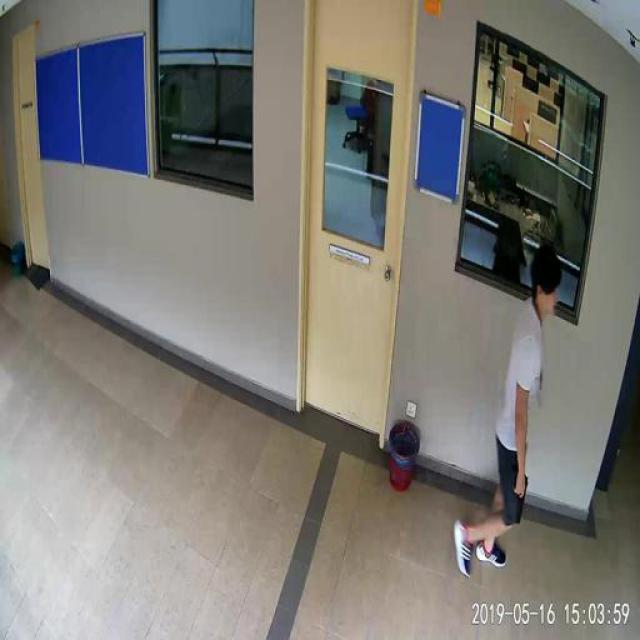weapon: (513, 471, 530, 526)
